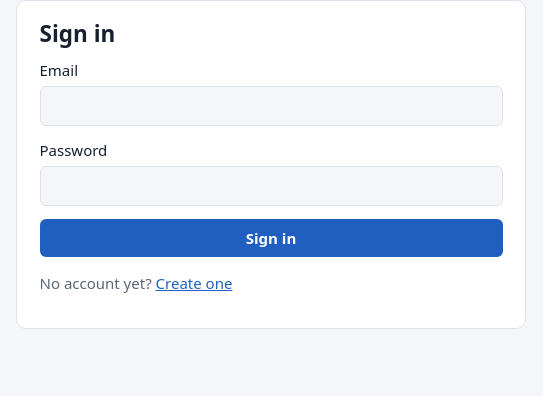
Test: LoginPage › shows the API error for bad credentials
Type "someone@cloudops.test" into the field labelled "Email" at (271, 106), box [40,86,502,126]
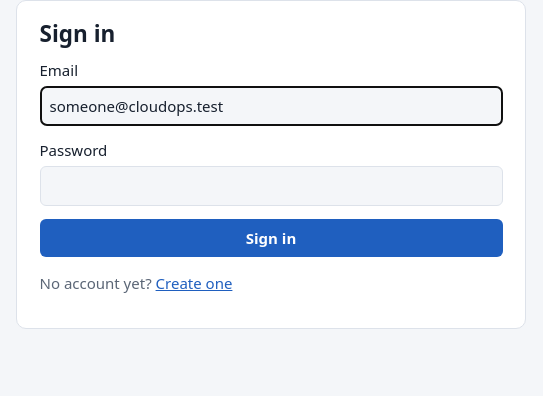
Type "wrong-password" into the password field labelled "Password" at (271, 186), box [40,166,502,206]
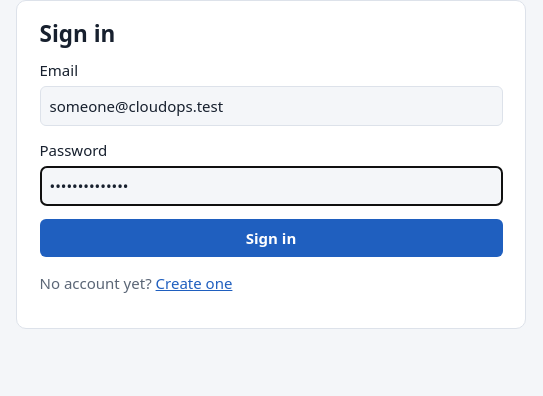
Click the button "Sign in" at (271, 238), box [40,219,502,257]
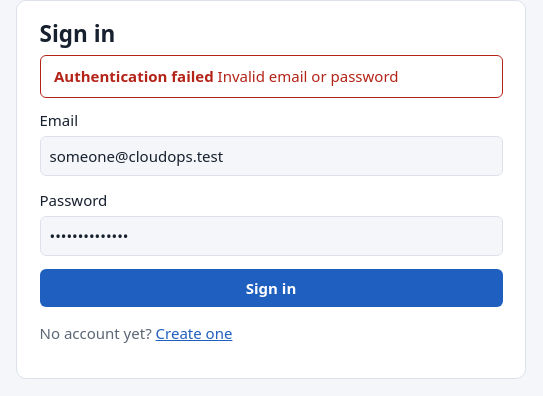
expect the message shows "Invalid email or password": met, box [218,66,399,86]
